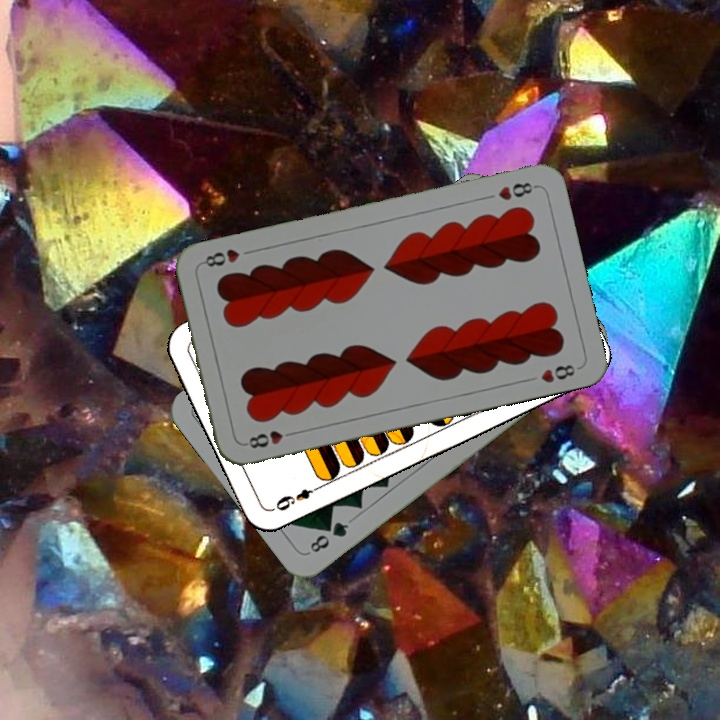E9: (269, 481, 325, 514)
G8: (305, 517, 352, 556)
H8: (240, 426, 299, 451), (494, 178, 540, 203)
